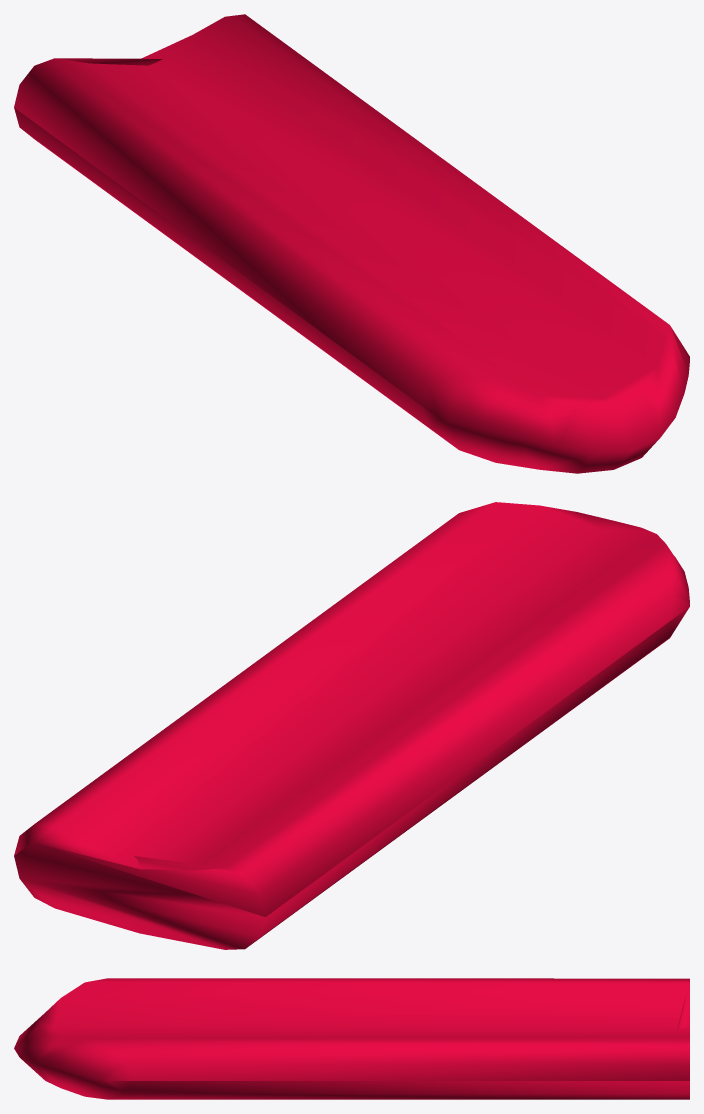
The model's file is Tongue.fbx.
3 views of the same model, one above another, from view 1: azimuth 30°, elevation 25°; view 2: azimuth 150°, elevation 25°; view 3: azimuth 270°, elevation 25° (orthographic). The views are drawn at different scales.
Visible parts, largest first — view 1: Tongue; view 2: Tongue; view 3: Tongue.
Boxes of the visible parts, box(x1,y1,x2,y2) form: Tongue: box(14, 14, 689, 473); Tongue: box(14, 502, 689, 949); Tongue: box(14, 978, 689, 1099).
Bounding box in the file's own units: 32.25 × 10.76 × 109.
